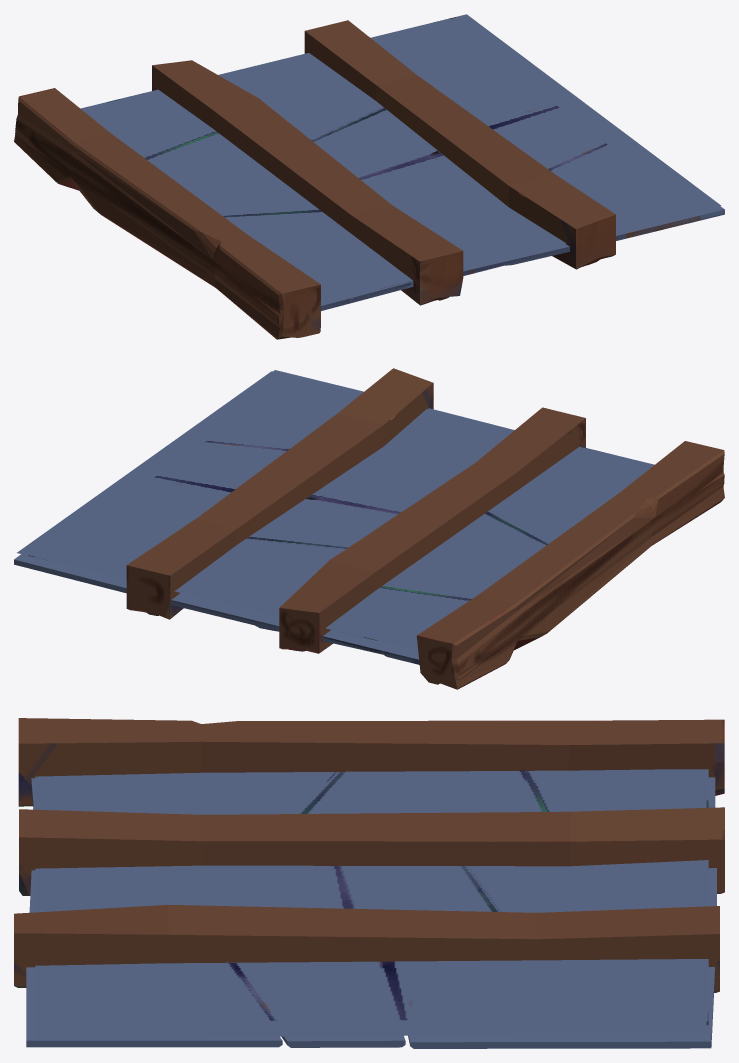
The model's file is ceiling_tilable.fbx.
3 views of the same model, one above another, from view 1: azimuth 30°, elevation 25°; view 2: azimuth 150°, elevation 25°; view 3: azimuth 270°, elevation 25° (orthographic). The views are drawn at different scales.
Parts seen in each view (by area): view 1: Plane; view 2: Plane; view 3: Plane.
Boxes of the visible parts, bbox=[...] form: Plane: bbox=[14, 14, 724, 339]; Plane: bbox=[14, 368, 724, 689]; Plane: bbox=[14, 718, 724, 1048].
Bounding box in the file's own units: 486 × 55.53 × 500.
